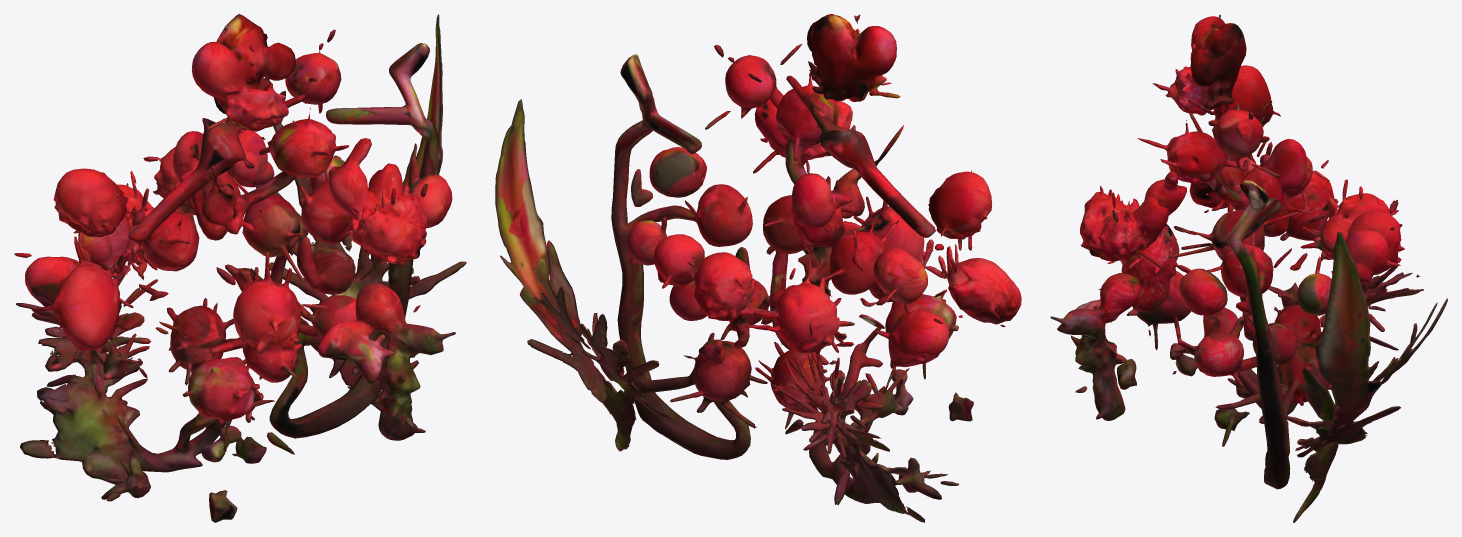
The model's file is herb0079_dup.gltf.
3 renders of one model, left to right at view 1: azimuth 30°, elevation 25°; view 2: azimuth 150°, elevation 25°; view 3: azimuth 270°, elevation 25°, orthographic. The views are drawn at different scales.
Parts seen in each view (by area): view 1: Mesh_0.024; view 2: Mesh_0.024; view 3: Mesh_0.024.
Part boxes in pixels (left/top/right/bottom): Mesh_0.024: left=14, top=14, right=466, bottom=522; Mesh_0.024: left=495, top=14, right=1021, bottom=522; Mesh_0.024: left=1050, top=14, right=1447, bottom=522.
Bounding box in the file's own units: 1.9 × 1.86 × 1.59.
1 material, 1 textured.
